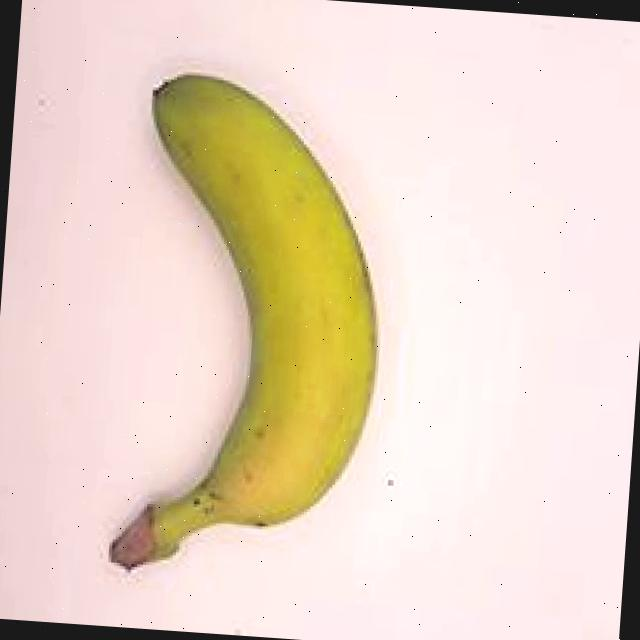Unripe: (66, 48, 416, 590)
